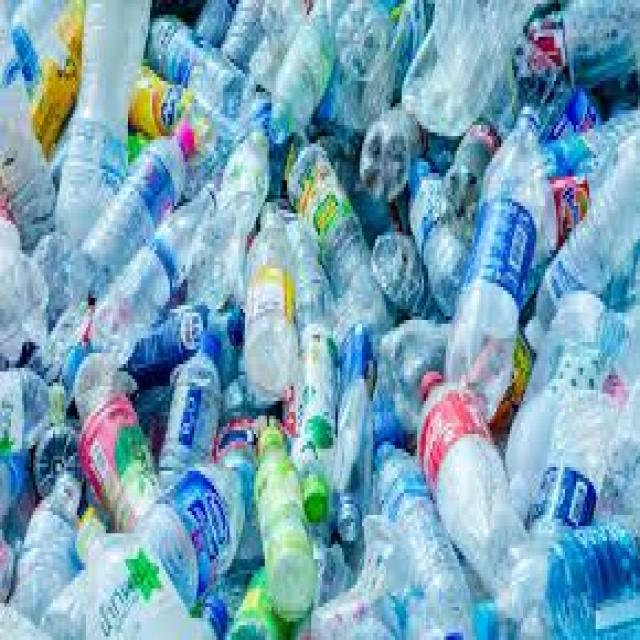heap: (14, 82, 640, 623)
